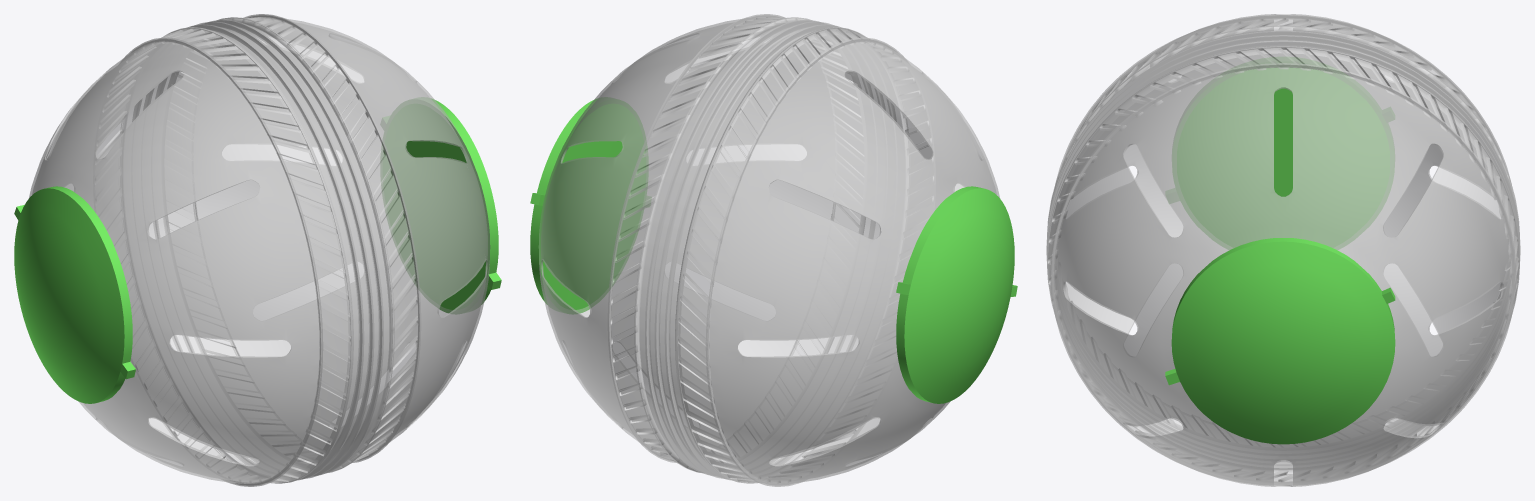
File: Bil_01.fbx
The picture shows the model from 3 angles, left to right: view 1: azimuth 30°, elevation 25°; view 2: azimuth 150°, elevation 25°; view 3: azimuth 270°, elevation 25°; orthographic projection.
Parts seen in each view (by area): view 1: Hamsterboll; view 2: Hamsterboll; view 3: Hamsterboll.
Part boxes in pixels (x1,y1,x2,y2): Hamsterboll: (14, 14, 501, 486); Hamsterboll: (530, 14, 1017, 486); Hamsterboll: (1046, 14, 1520, 486).
Size of the model in its own units: 208 by 200 by 200.
